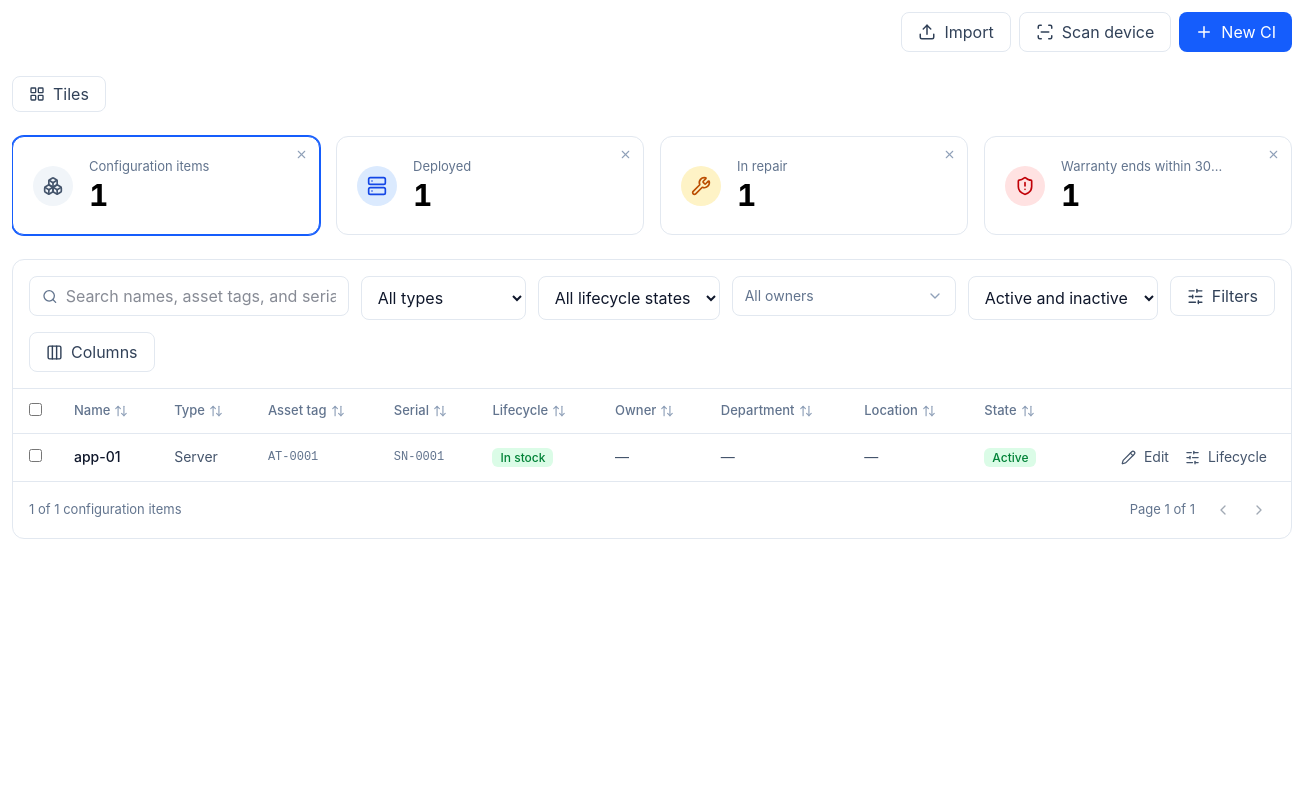
Test: CiListPage › sends the typed search term and shows the empty state when nothing matches
The width and height of the screenshot is (1304, 812).
Expected: the link "app-01" is shown, [74,448,121,465]
Type "switch" into the field named "Search configuration items" at [201, 296], box [66,284,336,308]
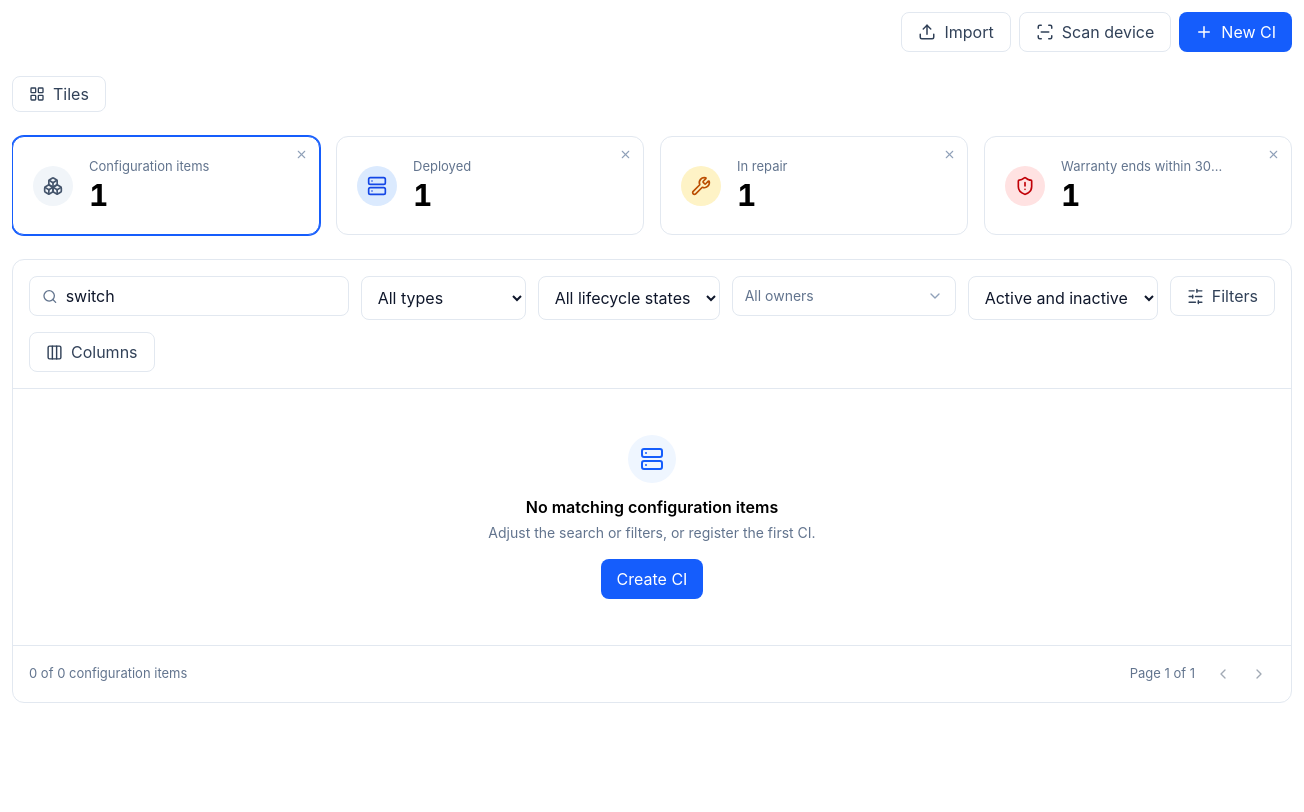
Expected: the heading "No matching configuration items" is shown, [526,497,778,517]
